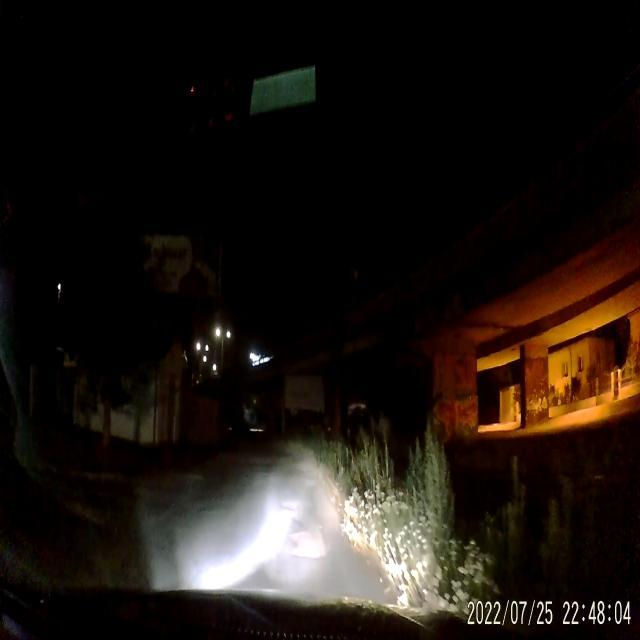Pothole: (290, 525, 330, 561), (280, 492, 298, 516)
